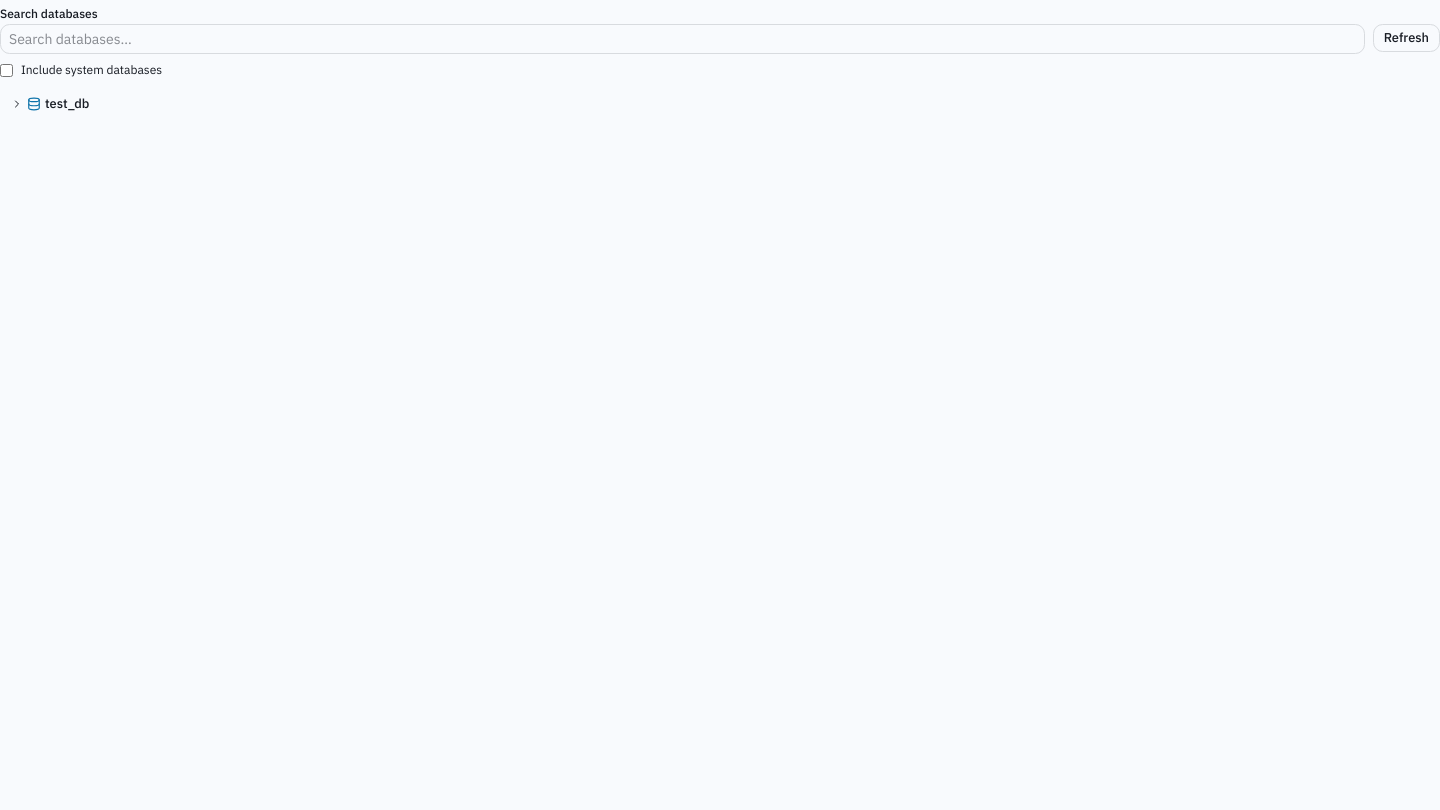
Scenario: QueryObjectInspector › shows truncation notices independently per section
Click the button "test_db" at (67, 104), box [0,90,1439,118]
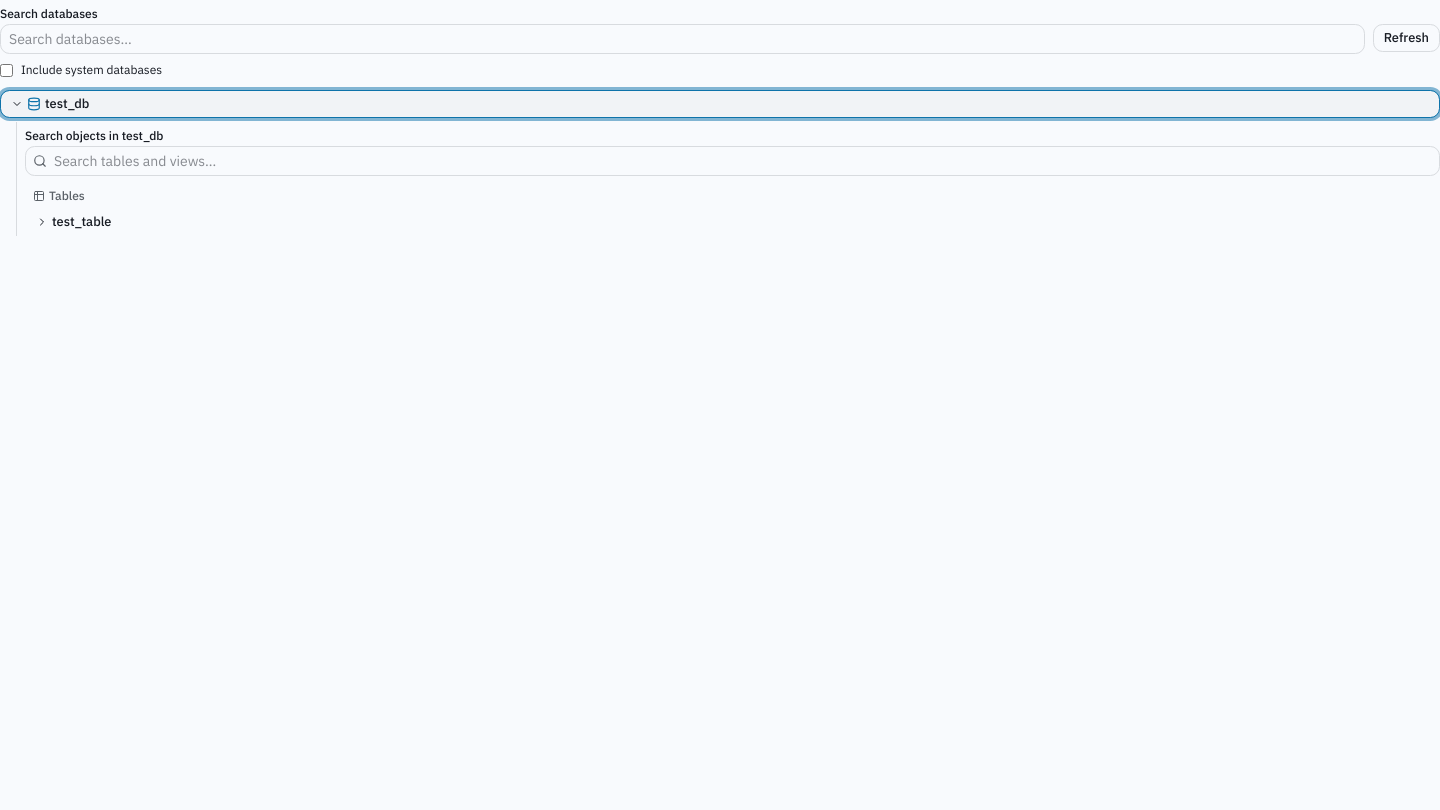
Click the button "test_table" at (82, 222), box [25,208,1439,236]
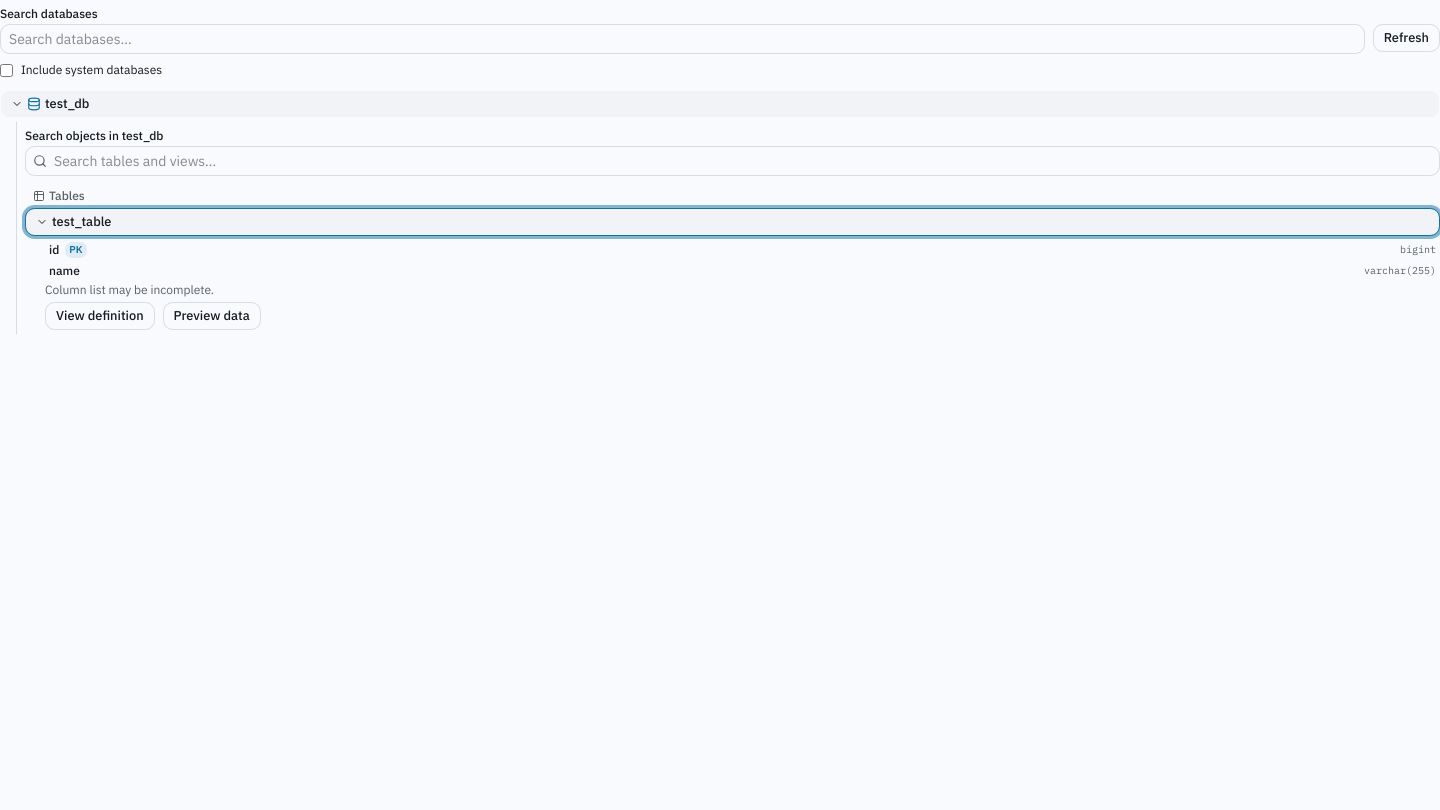
Right-click the button "test_table" at (82, 222), box [25,208,1439,236]
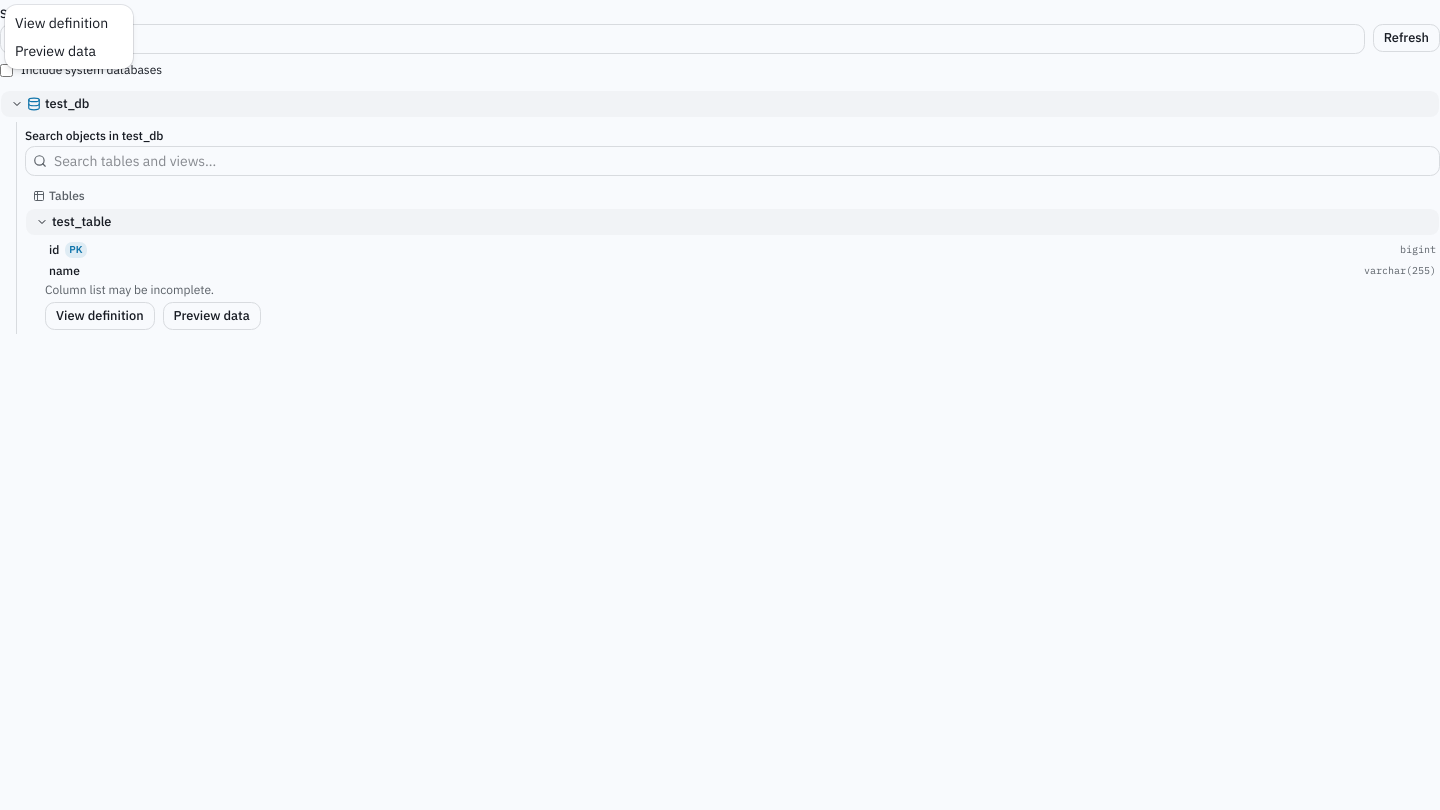
Click the menu item "View definition" at (62, 23), box [15,14,108,32]
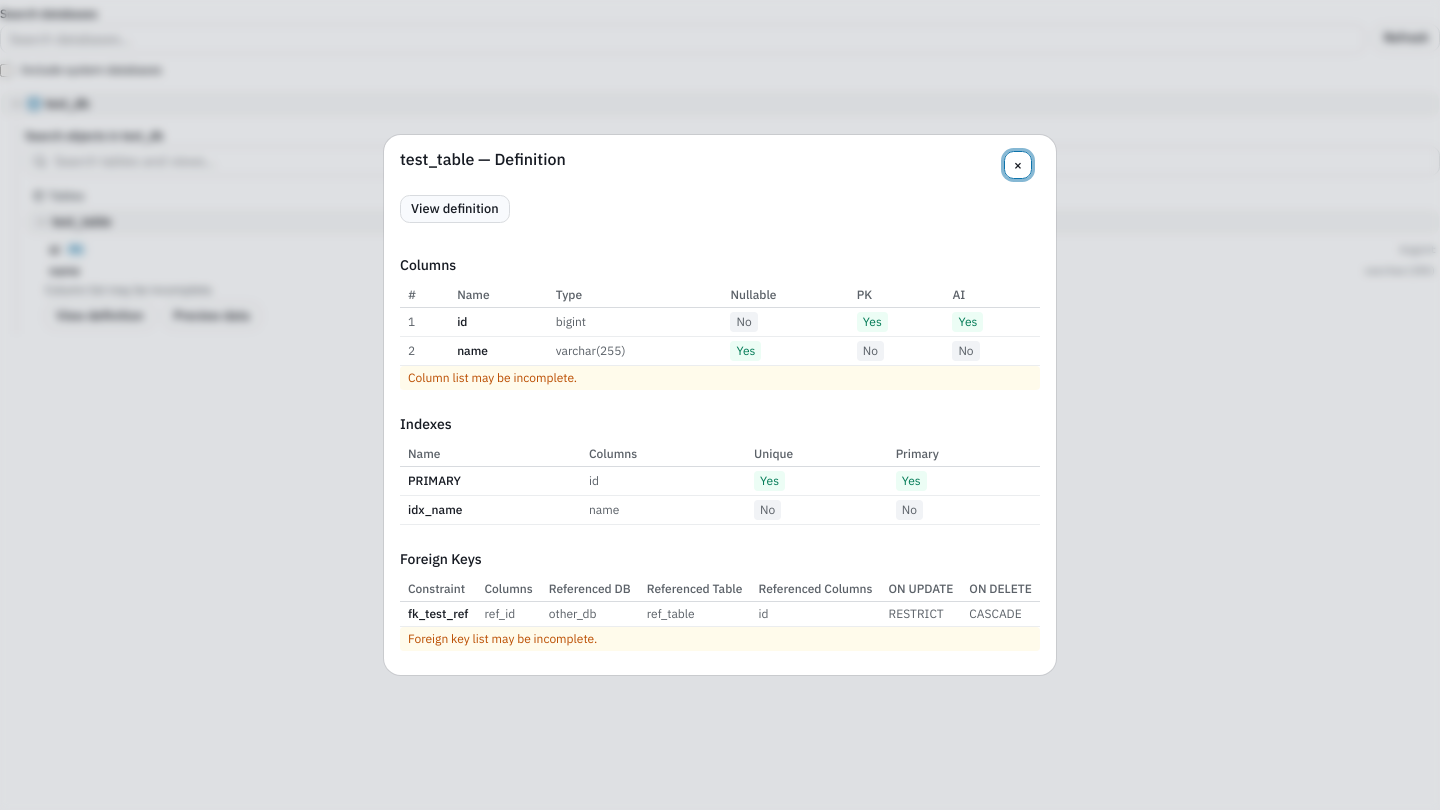
Expected: the number of elements with test id "inspector-truncated" is 2, [400,366,1040,390]; [400,627,1040,651]
Expected: the text with test id "inspector-truncated" reads "Column list may be incomplete.", [408,370,577,385]
Expected: the text with test id "inspector-truncated" reads "Foreign key list may be incomplete.", [408,631,597,646]
